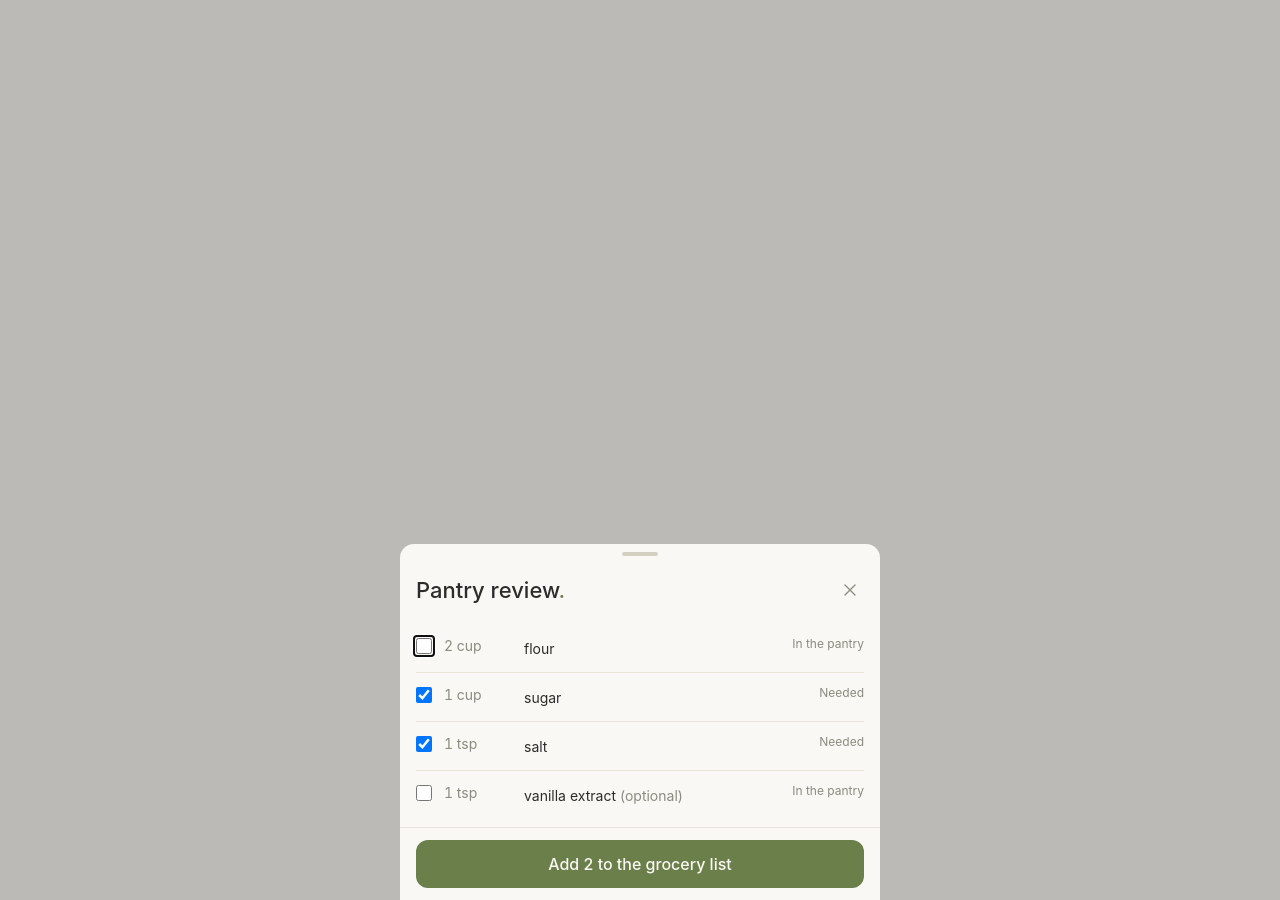
Test: PantryReviewSheet › footer button › checking an inStock row increases the count
This screenshot has width=1280, height=900.
Start: 2 checked. Check flour (inStock).
Click the checkbox labelled "2 cup flour In the pantry": (424, 646) [416,638,432,654]
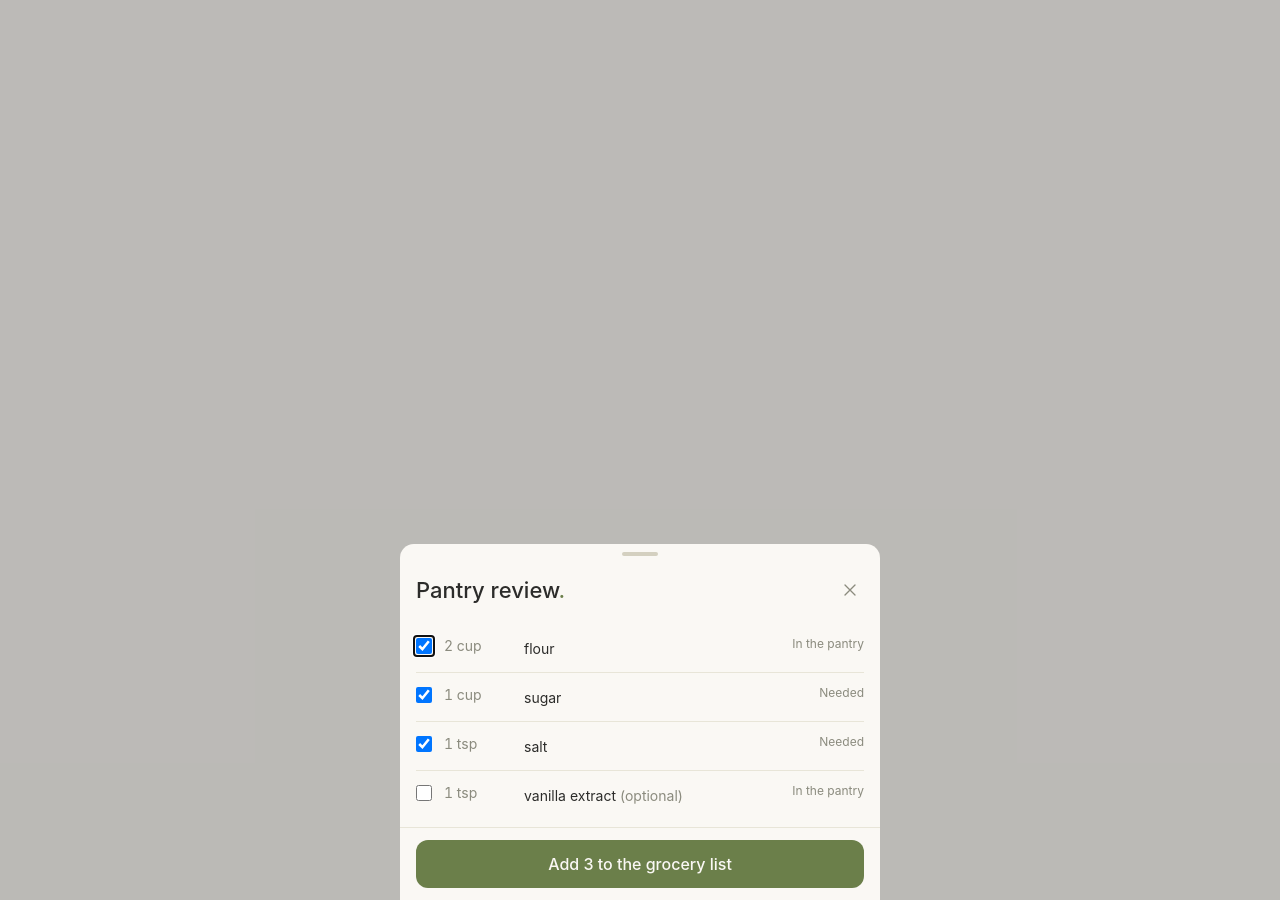
Expected: the button "Add 3 to the grocery list" is shown, [416,840,864,888]
